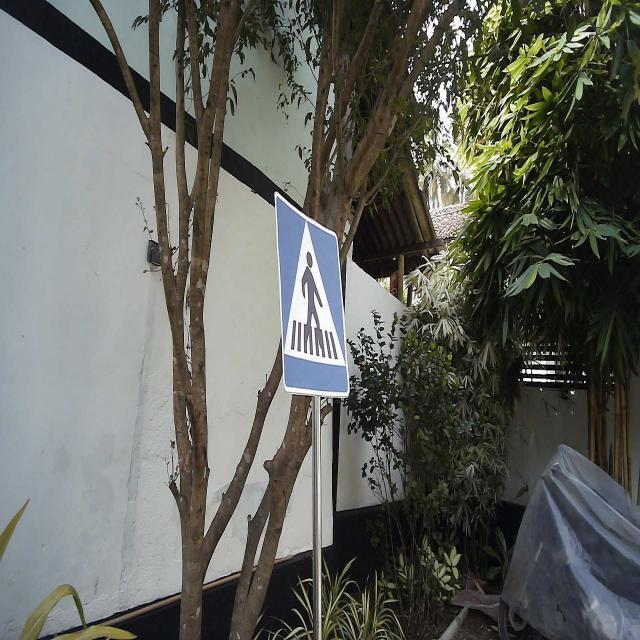crosswalk_sign: (272, 189, 352, 401)
